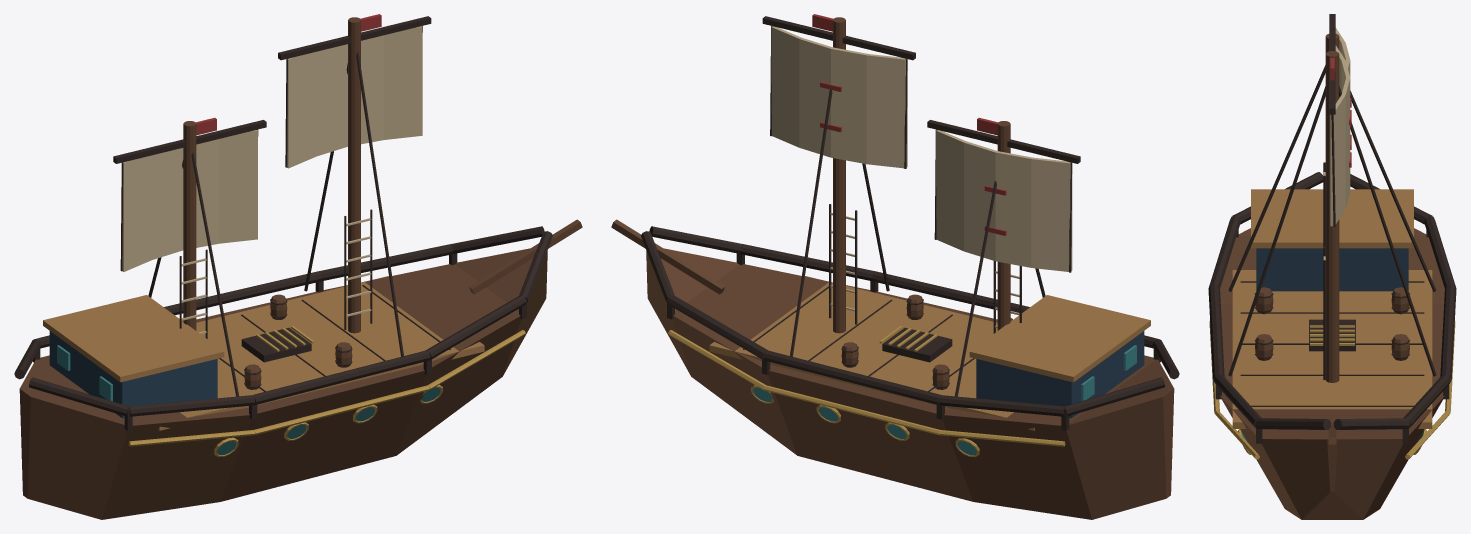
The model's file is PirateCove_Landmark_Showcase.glb.
3 views of the same model, side by side, from view 1: azimuth 30°, elevation 25°; view 2: azimuth 150°, elevation 25°; view 3: azimuth 270°, elevation 25° (orthographic). The views are drawn at different scales.
Visible parts, largest first — view 1: PirateCove_Landmark_Showcase; view 2: PirateCove_Landmark_Showcase; view 3: PirateCove_Landmark_Showcase.
Part boxes in pixels (box(x1,y1,x2,y2)): PirateCove_Landmark_Showcase: box(14, 14, 582, 519); PirateCove_Landmark_Showcase: box(611, 14, 1179, 519); PirateCove_Landmark_Showcase: box(1208, 14, 1456, 519).
Bounding box in the file's own units: 12.91 × 9.4 × 4.72.
